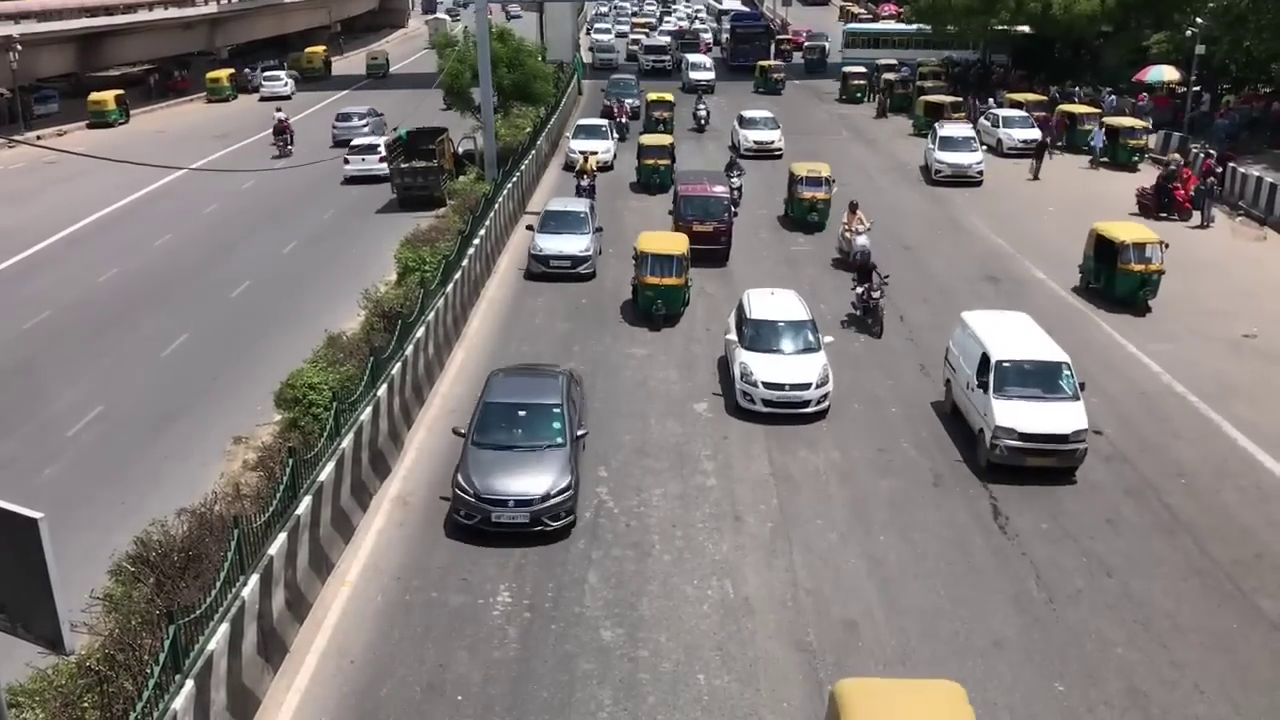Car: (445, 355, 593, 548), (721, 283, 835, 425), (530, 189, 612, 281), (916, 113, 983, 198), (335, 126, 405, 191), (562, 107, 619, 172), (983, 103, 1045, 160), (731, 103, 782, 162), (252, 66, 305, 107), (329, 98, 377, 143)
License_Plate: (490, 511, 532, 528), (769, 389, 810, 406), (547, 256, 571, 269), (693, 222, 716, 234)
MotorCycle: (1132, 172, 1199, 228), (826, 213, 877, 278), (848, 272, 894, 344), (716, 160, 750, 217), (265, 115, 297, 166), (687, 98, 714, 141)
Pickup: (937, 302, 1096, 480)
